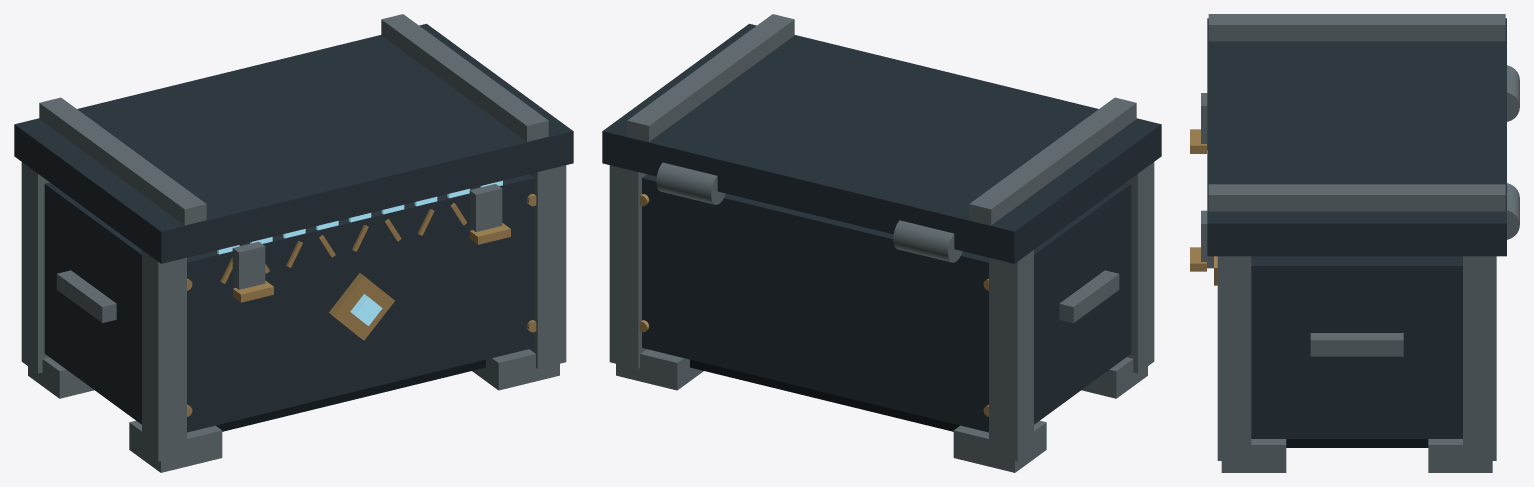
File: FSA_WORLD_MysteryChest.glb
The picture shows the model from 3 angles, left to right: view 1: azimuth 30°, elevation 25°; view 2: azimuth 150°, elevation 25°; view 3: azimuth 270°, elevation 25°; orthographic projection.
Visible parts, largest first — view 1: Lid, FrontWall, SideWall_L, Corner_LF, Corner_RF, LidRail_L, LidRail_R, Corner_LB, Floor, Foot_LF, Foot_RF, Medallion (+4 smaller); view 2: Lid, RearWall, SideWall_L, Corner_LB, Corner_RB, LidRail_L, LidRail_R, Corner_LF, Floor, Foot_LB, Foot_RB, Hinge_L (+3 smaller); view 3: Lid, SideWall_R, LidRail_R, LidRail_L, Corner_RF, Corner_RB, SideHandle_R, Foot_RF, Foot_RB, Floor, Hinge_R, Hinge_L (+2 smaller).
Part boxes in pixels (left/top/right/bottom): Lid: left=14, top=23, right=573, bottom=263; FrontWall: left=187, top=174, right=533, bottom=432; SideWall_L: left=44, top=182, right=141, bottom=424; Corner_LF: left=142, top=250, right=186, bottom=461; Corner_RF: left=529, top=165, right=566, bottom=368; LidRail_L: left=39, top=97, right=206, bottom=225; LidRail_R: left=381, top=14, right=548, bottom=141; Corner_LB: left=21, top=162, right=49, bottom=373; Floor: left=216, top=359, right=485, bottom=431; Foot_LF: left=129, top=420, right=222, bottom=472; Foot_RF: left=472, top=349, right=559, bottom=390; Medallion: left=329, top=273, right=394, bottom=340; Lid: left=602, top=23, right=1161, bottom=263; RearWall: left=642, top=174, right=988, bottom=432; SideWall_L: left=1034, top=182, right=1131, bottom=424; Corner_LB: left=989, top=250, right=1033, bottom=461; Corner_RB: left=609, top=165, right=646, bottom=368; LidRail_L: left=969, top=97, right=1136, bottom=225; LidRail_R: left=627, top=14, right=794, bottom=141; Corner_LF: left=1126, top=162, right=1154, bottom=373; Floor: left=690, top=359, right=959, bottom=431; Foot_LB: left=953, top=420, right=1046, bottom=472; Foot_RB: left=616, top=349, right=703, bottom=390; Hinge_L: left=893, top=220, right=962, bottom=262; Lid: left=1207, top=18, right=1506, bottom=256; SideWall_R: left=1251, top=256, right=1462, bottom=438; LidRail_R: left=1208, top=184, right=1505, bottom=211; LidRail_L: left=1208, top=14, right=1505, bottom=41; Corner_RF: left=1217, top=256, right=1251, bottom=460; Corner_RB: left=1463, top=256, right=1496, bottom=460; SideHandle_R: left=1310, top=333, right=1403, bottom=356; Foot_RF: left=1221, top=439, right=1286, bottom=472; Foot_RB: left=1428, top=439, right=1492, bottom=472; Floor: left=1286, top=439, right=1428, bottom=447; Hinge_R: left=1507, top=183, right=1519, bottom=239; Hinge_L: left=1507, top=65, right=1519, bottom=121.
Bounding box in the file's own units: 1.95 × 1.15 × 1.28.
